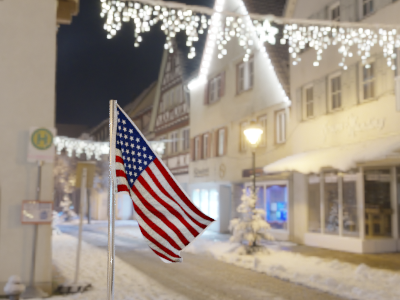America flag: (111, 101, 217, 264)
